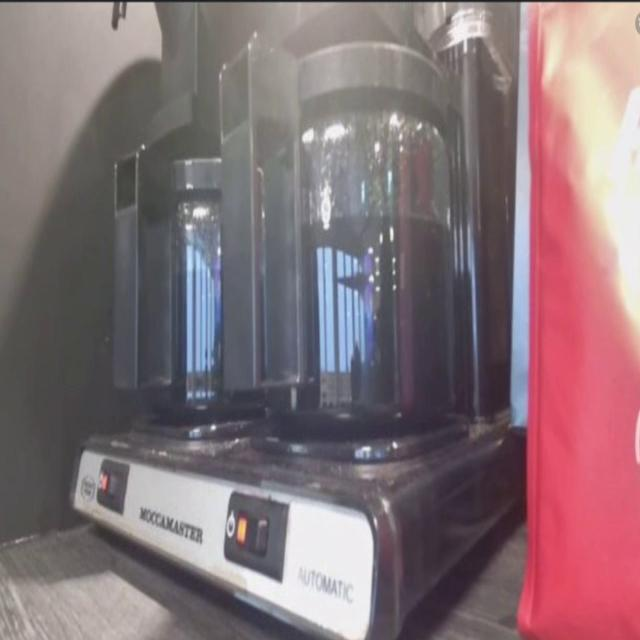coffee: (263, 44, 453, 442), (132, 147, 284, 429)
